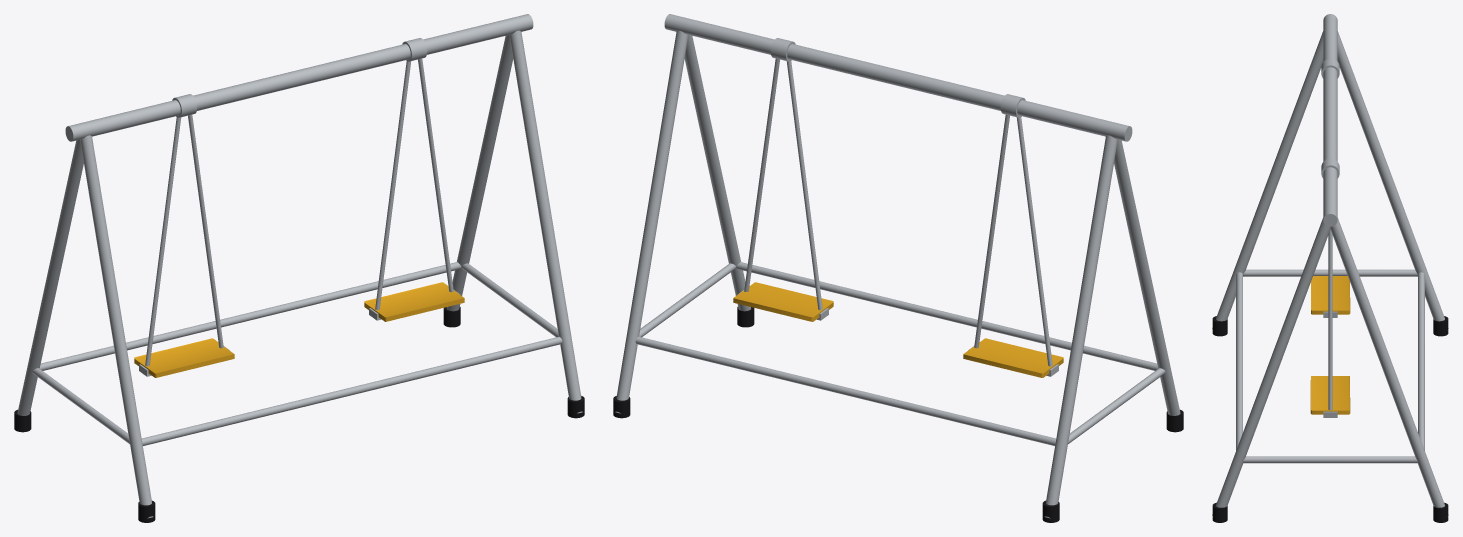
File: swing.glb
3 renders of one model, left to right at view 1: azimuth 30°, elevation 25°; view 2: azimuth 150°, elevation 25°; view 3: azimuth 270°, elevation 25°, orthographic. The views are drawn at different scales.
Parts seen in each view (by area): view 1: frame, swing_left, swing_right, foot_caps; view 2: frame, swing_right, swing_left, foot_caps; view 3: frame, swing_right, swing_left, foot_caps.
Boxes of the visible parts, bbox=[...] form: frame: bbox=[17, 14, 582, 518]; swing_left: bbox=[134, 94, 234, 377]; swing_right: bbox=[364, 38, 464, 321]; foot_caps: bbox=[14, 307, 584, 522]; frame: bbox=[615, 14, 1180, 518]; swing_right: bbox=[733, 38, 833, 321]; swing_left: bbox=[963, 94, 1063, 377]; foot_caps: bbox=[613, 307, 1183, 522]; frame: bbox=[1212, 14, 1448, 516]; swing_right: bbox=[1310, 158, 1350, 417]; swing_left: bbox=[1311, 59, 1350, 317]; foot_caps: bbox=[1212, 316, 1448, 522].
Bounding box in the file's own units: 3 × 2.2 × 1.5.
